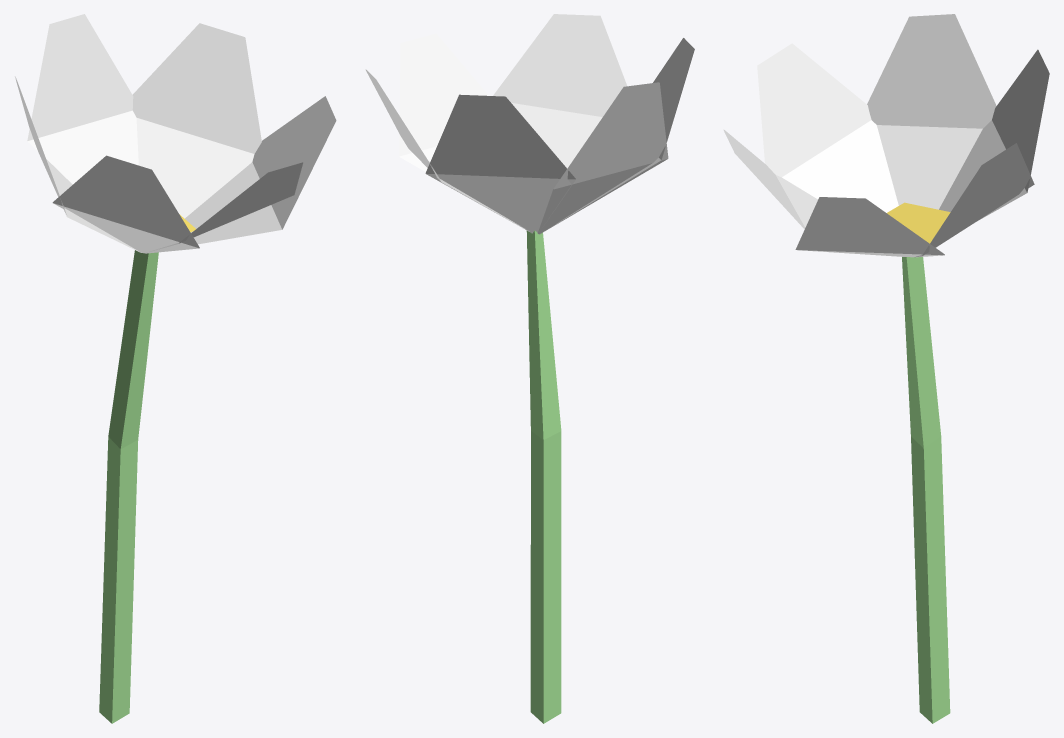
The model's file is Flower_e_TwoS_01.fbx.
3 renders of one model, left to right at view 1: azimuth 30°, elevation 25°; view 2: azimuth 150°, elevation 25°; view 3: azimuth 270°, elevation 25°, orthographic.
Visible parts, largest first — view 1: Flower_e_TwoS_01; view 2: Flower_e_TwoS_01; view 3: Flower_e_TwoS_01.
Boxes of the visible parts, x1=… form: Flower_e_TwoS_01: x1=15, y1=14, x2=336, y2=723; Flower_e_TwoS_01: x1=365, y1=14, x2=694, y2=723; Flower_e_TwoS_01: x1=723, y1=14, x2=1049, y2=723.
Bounding box in the file's own units: 14.67 × 32.95 × 14.75.
